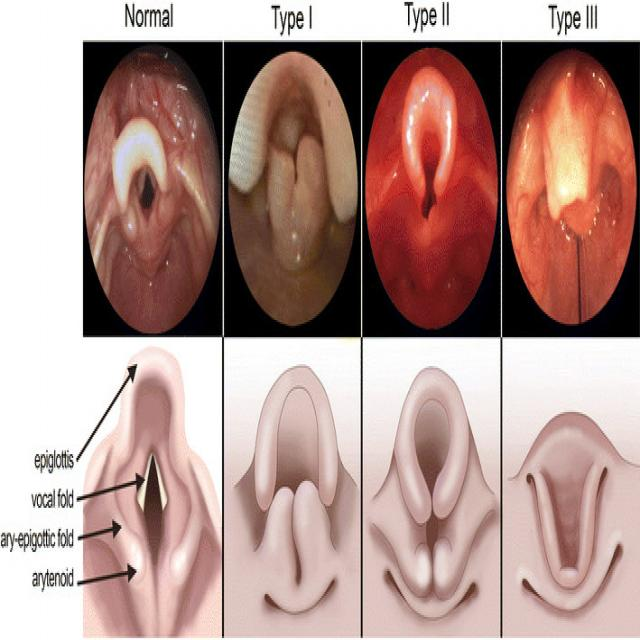arytenoid cartilagerotation: (264, 128, 328, 242)
epiglottisrotation: (540, 66, 594, 224), (401, 64, 459, 196), (110, 108, 169, 218)
larynxrotation: (137, 167, 157, 215), (423, 192, 434, 221)
